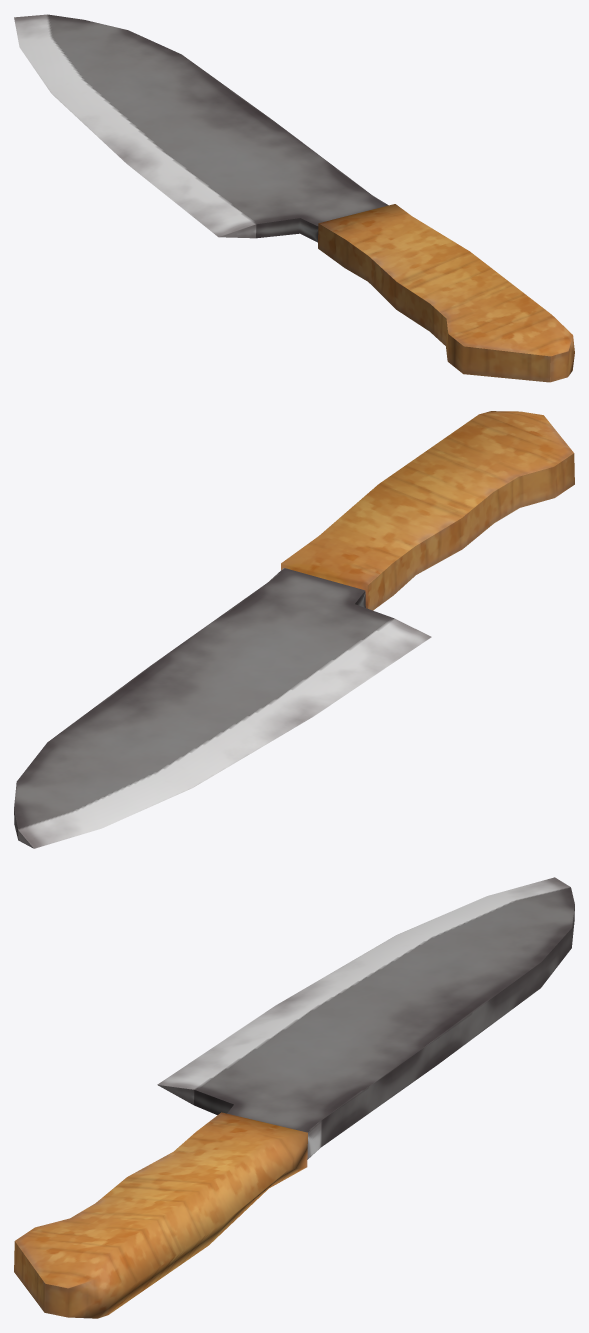
The model's file is Knife.fbx.
The picture shows the model from 3 angles, top to bottom: view 1: azimuth 30°, elevation 25°; view 2: azimuth 150°, elevation 25°; view 3: azimuth 330°, elevation 25°; orthographic projection. The views are drawn at different scales.
Visible parts, largest first — view 1: Knife; view 2: Knife; view 3: Knife.
Part boxes in pixels (x1,y1,x2,y2): Knife: (14,14,574,382); Knife: (14,411,574,848); Knife: (14,877,574,1318).
Size of the model in its own units: 15.83 by 5.08 by 82.05.
Materials: 1 (1 with a texture image).
